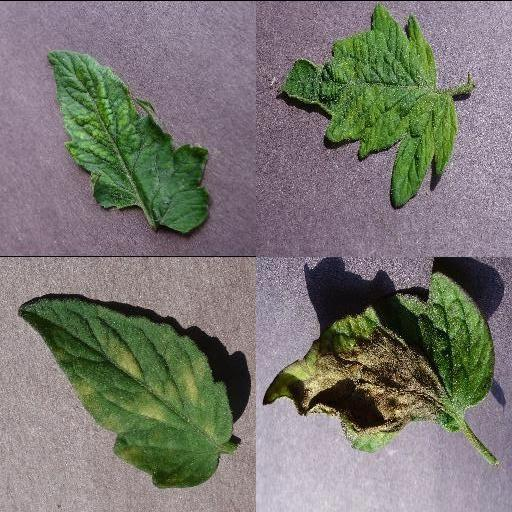Late Blight: (262, 270, 496, 452)
Leaf Mold: (18, 295, 234, 488)
Mosaic Virus: (278, 1, 458, 209), (46, 48, 212, 234)
